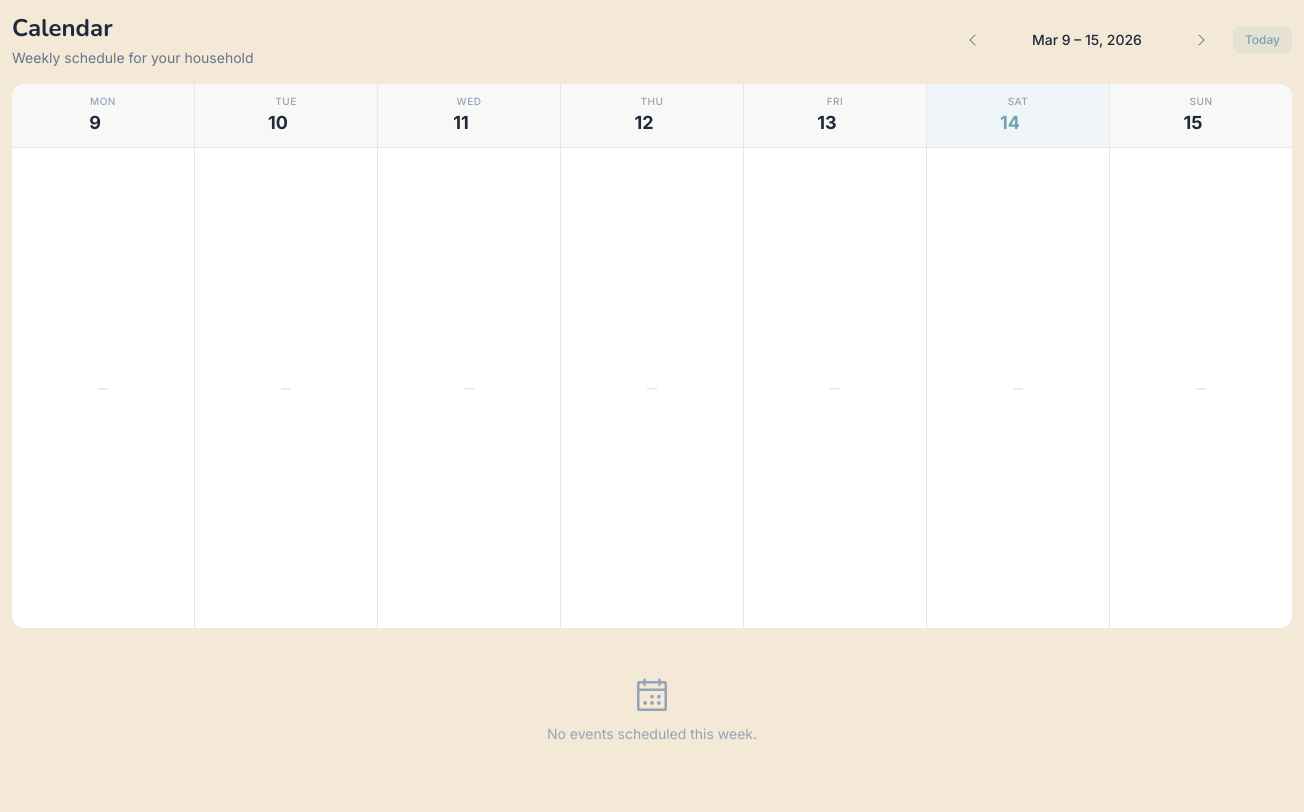
Test case: WeeklyCalendar › navigates to next week when next button is clicked
Click the button named "Next week": coordinates (1201, 40) [1185,24,1217,56]
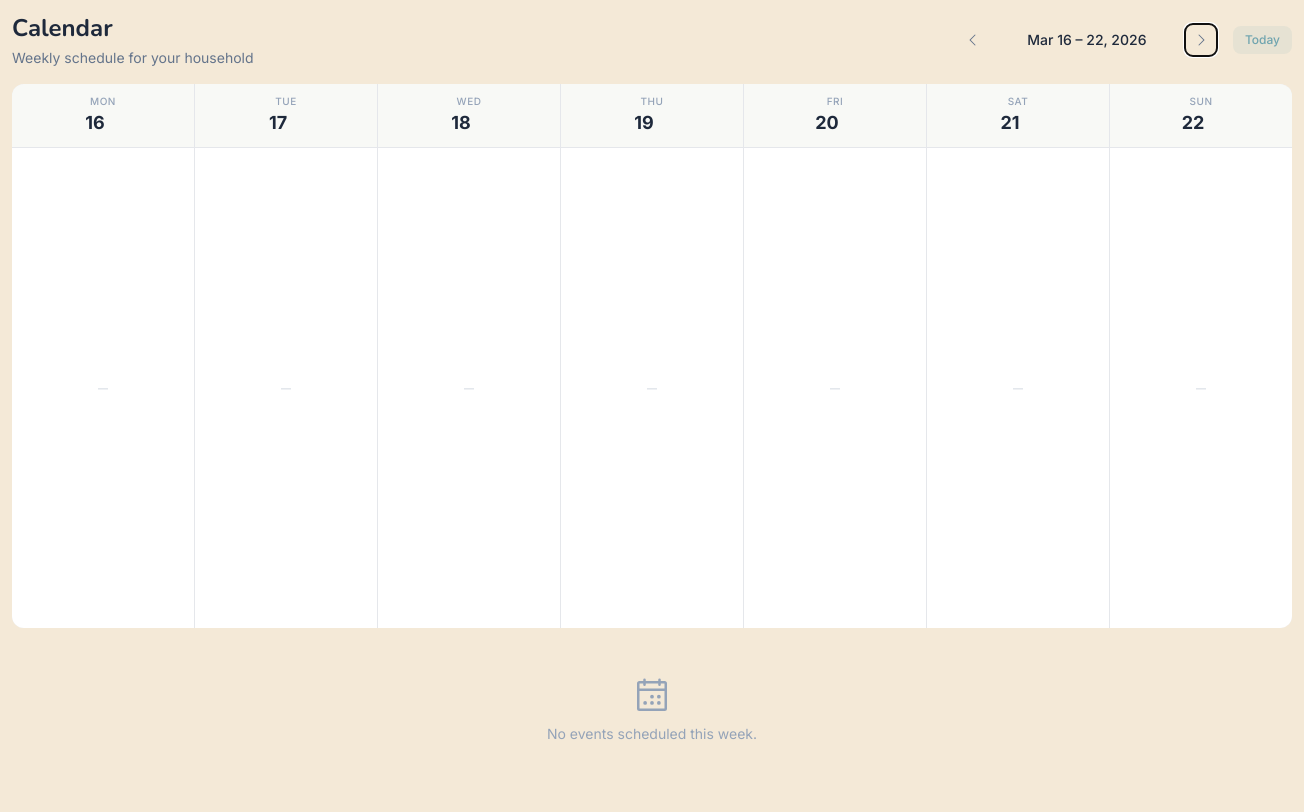
Check: the text "16" is shown, box [85,109,105,137]
